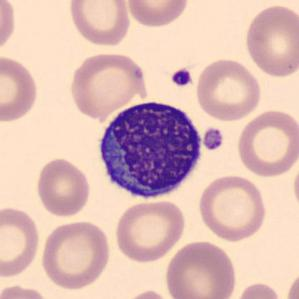Lymphocyte: (91, 94, 207, 204)
Platelets: (201, 126, 225, 152), (169, 67, 194, 88)
RBC: (66, 49, 150, 119), (38, 218, 113, 292), (196, 172, 268, 243), (113, 198, 188, 264), (194, 55, 264, 122), (162, 238, 238, 299), (234, 107, 298, 179), (243, 3, 298, 79), (33, 156, 93, 218), (0, 204, 43, 280), (66, 0, 132, 48), (0, 52, 41, 124), (124, 0, 191, 29), (231, 280, 285, 299), (0, 0, 17, 57), (0, 282, 51, 299), (116, 287, 176, 299), (290, 154, 299, 215), (284, 267, 299, 299)
